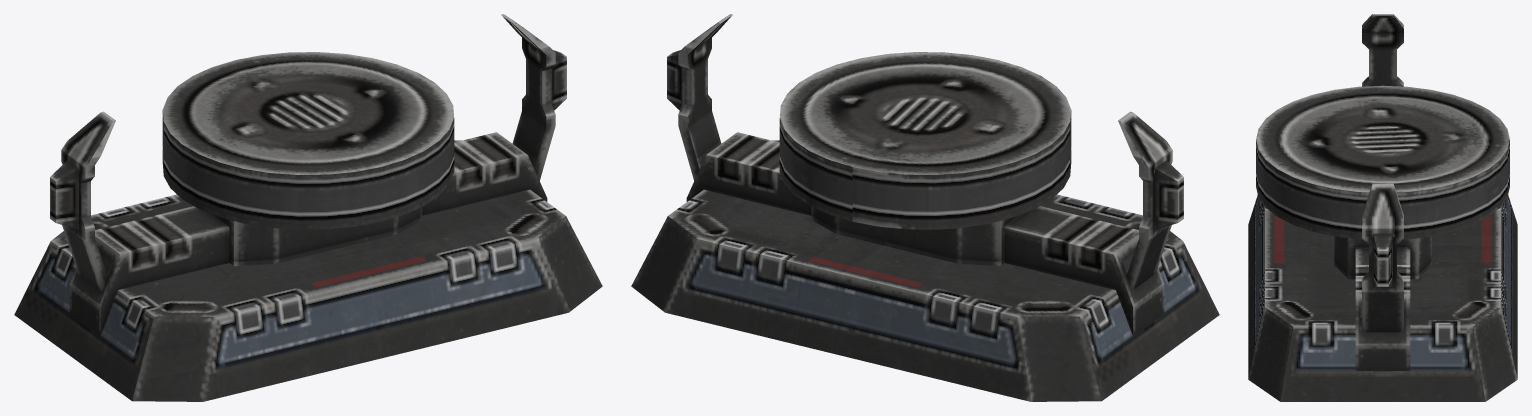
Rendered from ScifiResearchModule1.fbx.
3 views of the same model, side by side, from view 1: azimuth 30°, elevation 25°; view 2: azimuth 150°, elevation 25°; view 3: azimuth 270°, elevation 25° (orthographic). The views are drawn at different scales.
Parts seen in each view (by area): view 1: ScifiResearchModule1; view 2: ScifiResearchModule1; view 3: ScifiResearchModule1.
Boxes of the visible parts, left/top/right/bottom form: ScifiResearchModule1: left=14, top=14, right=602, bottom=401; ScifiResearchModule1: left=631, top=14, right=1219, bottom=401; ScifiResearchModule1: left=1248, top=14, right=1517, bottom=401.
Size of the model in its own units: 4338 by 1889 by 2276.
